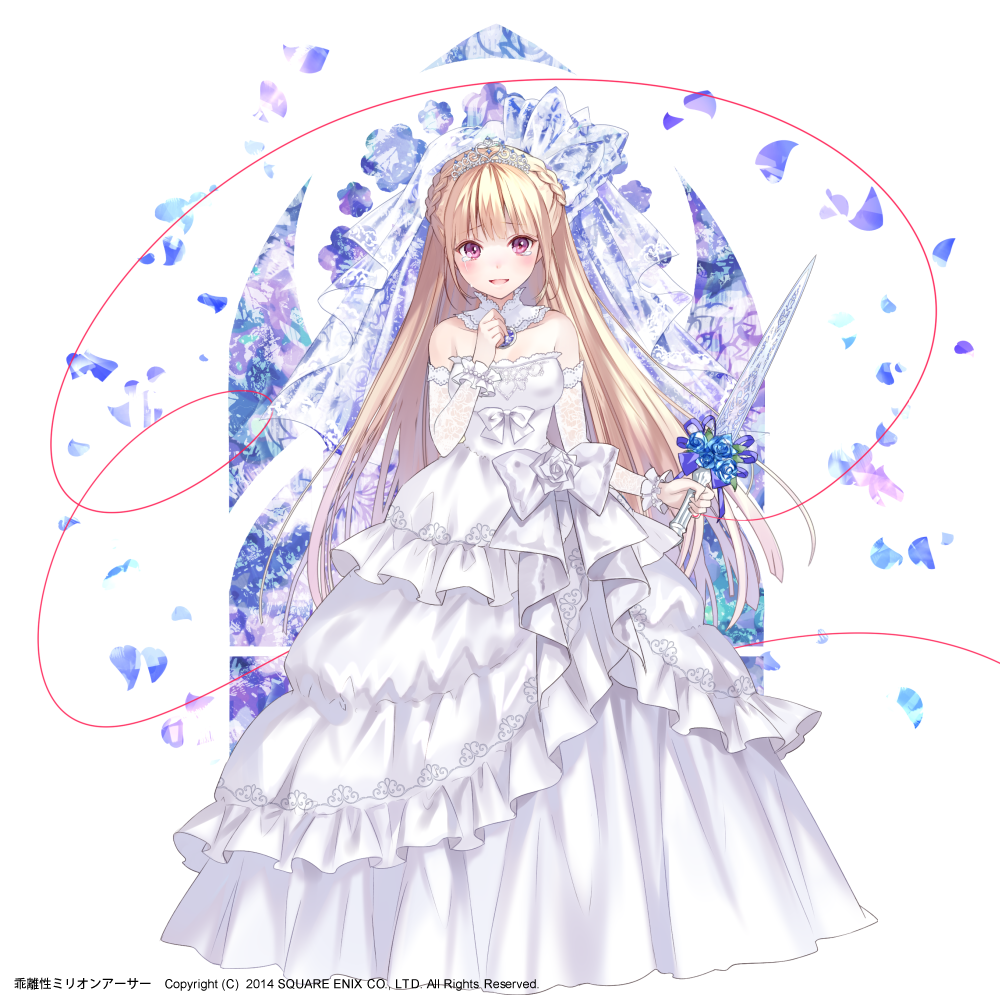纸片人正脸: (416, 140, 584, 305)
